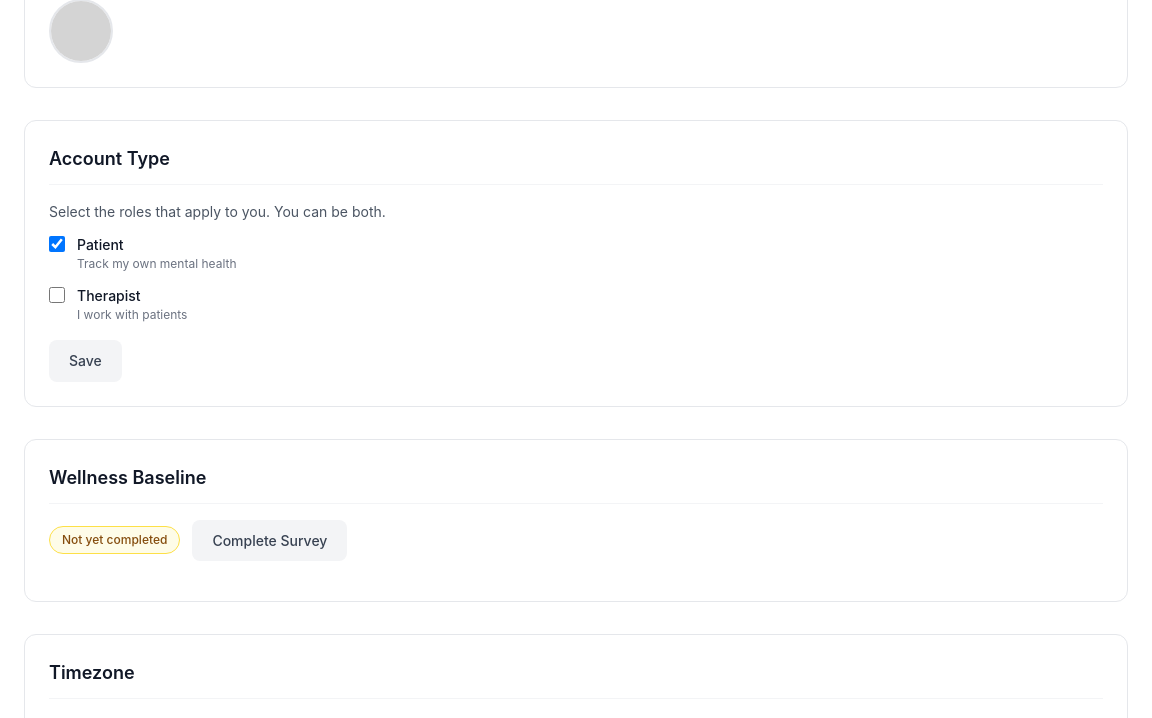
Test case: ProfileView › shows a role error when saving roles fails
(page scrolled)
Click the button "Save": [85, 361] box [49,340,122,382]
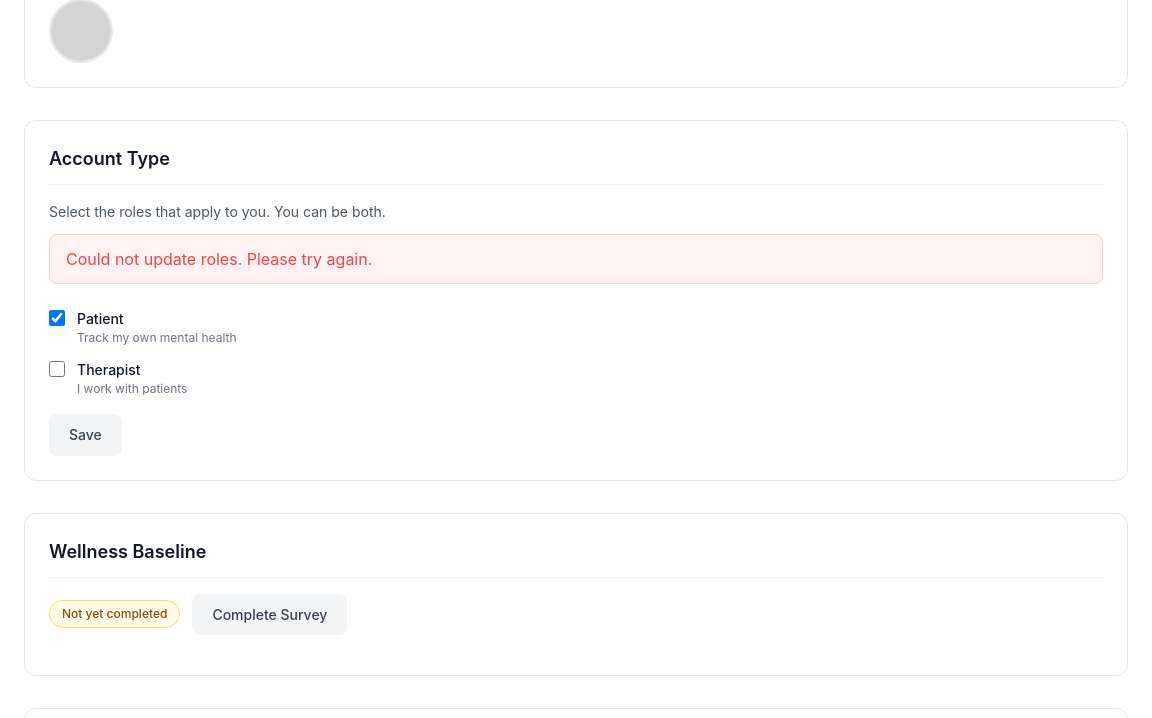
Result: the text "Could not update roles" is shown at [66,249,372,269]
